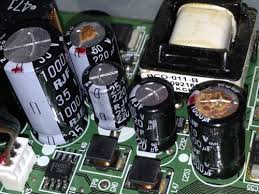capacitor: (6, 25, 78, 142), (186, 76, 250, 174), (125, 73, 177, 151), (84, 62, 129, 130)
